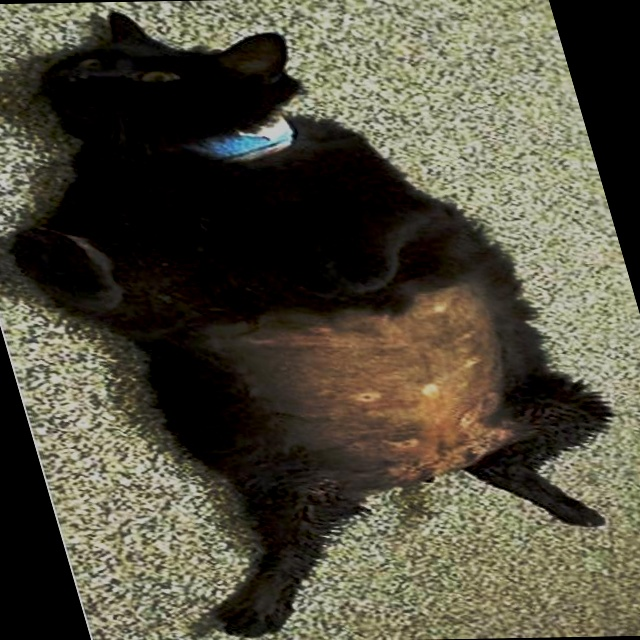hairloss: (256, 280, 539, 484)
